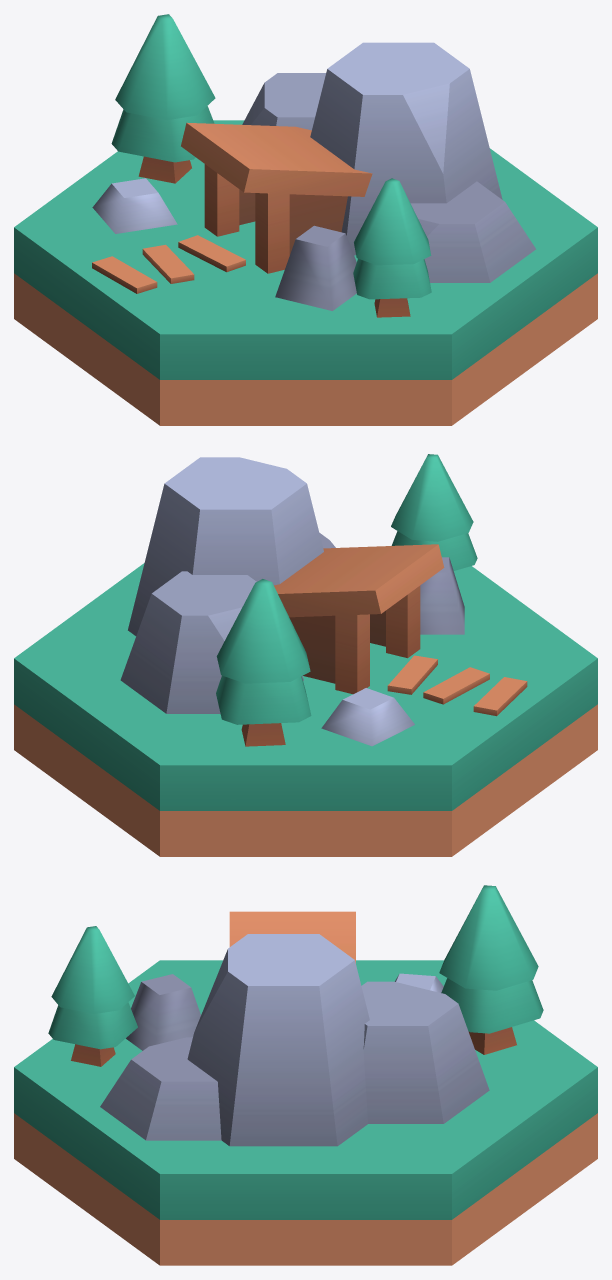
Rendered from kenney-hexagon-building-mine.glb.
The picture shows the model from 3 angles, top to bottom: view 1: azimuth 30°, elevation 25°; view 2: azimuth 150°, elevation 25°; view 3: azimuth 270°, elevation 25°; orthographic projection.
Parts seen in each view (by area): view 1: building_mine; view 2: building_mine; view 3: building_mine.
Boxes of the visible parts, box(x1,y1,x2,y2) form: building_mine: box(14, 14, 597, 425); building_mine: box(14, 454, 597, 856); building_mine: box(14, 885, 597, 1265).
Size of the model in its own units: 1 by 0.5382 by 1.15.
Materials: 1 (1 with a texture image).
